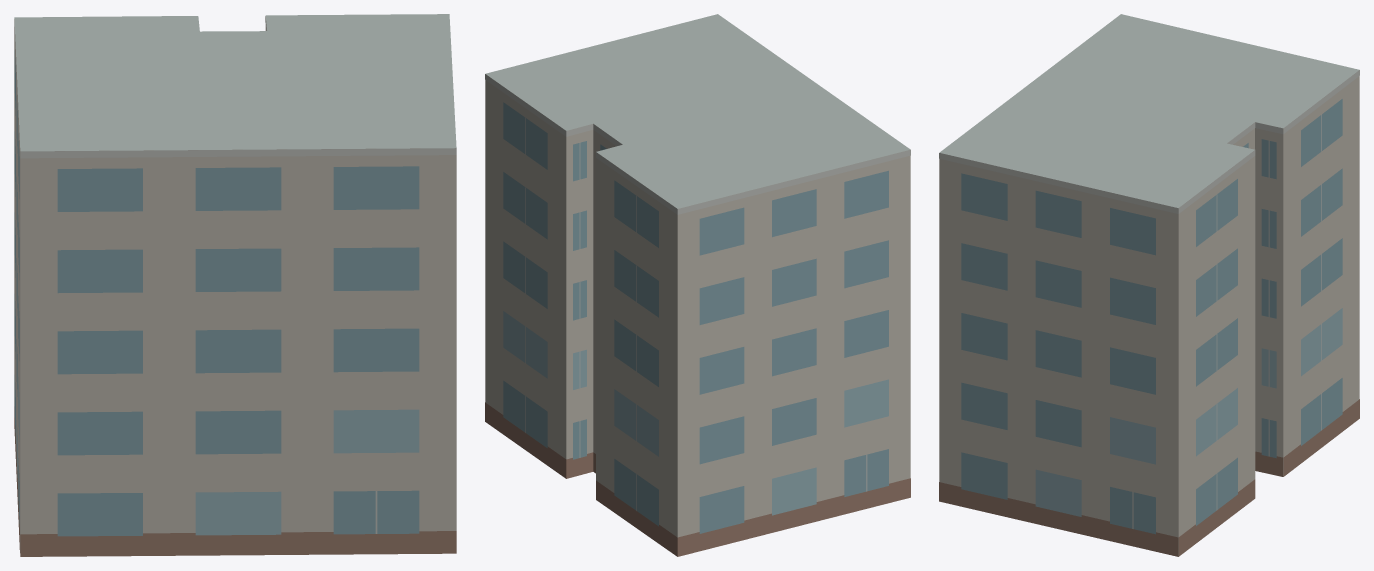
Rendered from survey-upis-32870632.glb.
The picture shows the model from 3 angles, left to right: view 1: azimuth 30°, elevation 25°; view 2: azimuth 150°, elevation 25°; view 3: azimuth 270°, elevation 25°; orthographic projection. The views are drawn at different scales.
Parts seen in each view (by area): view 1: survey-upis-32870632.tmp; view 2: survey-upis-32870632.tmp; view 3: survey-upis-32870632.tmp.
Part boxes in pixels (bbox=[...]): survey-upis-32870632.tmp: bbox=[14, 14, 456, 556]; survey-upis-32870632.tmp: bbox=[485, 14, 910, 556]; survey-upis-32870632.tmp: bbox=[939, 14, 1359, 556].
Size of the model in its own units: 17.08 by 14.3 by 15.64.
